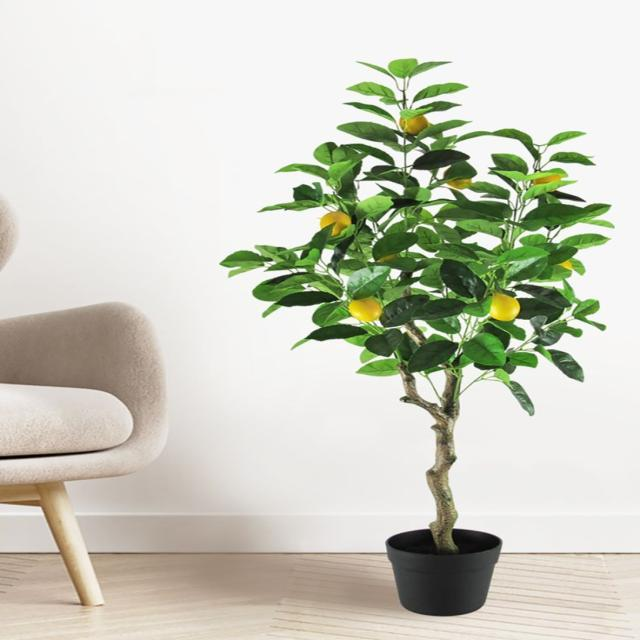obstacle: (0, 300, 170, 606)
